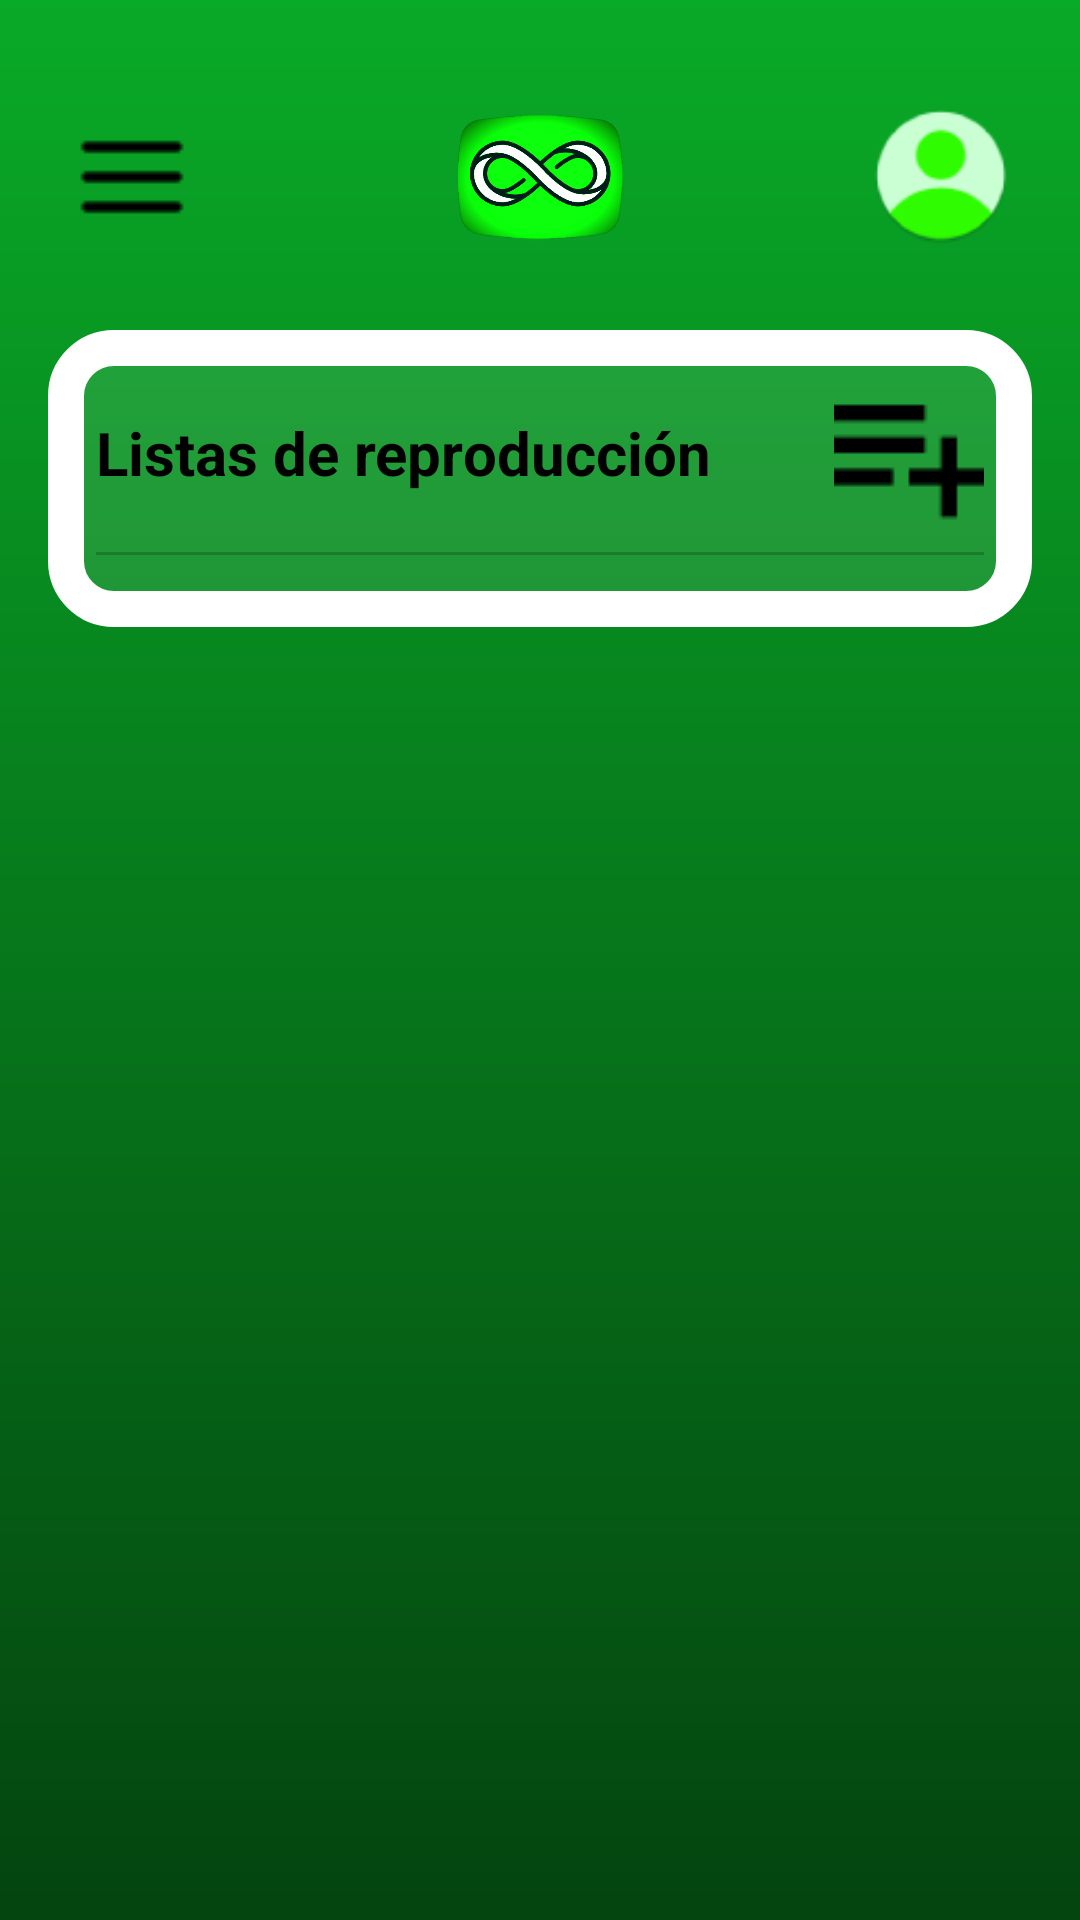

Named icons in this screenshot (1080x1920) and their bounding boxes, (x1, y1, x2, y2):
add: (834, 404, 984, 519)
menu: (80, 140, 184, 214)
